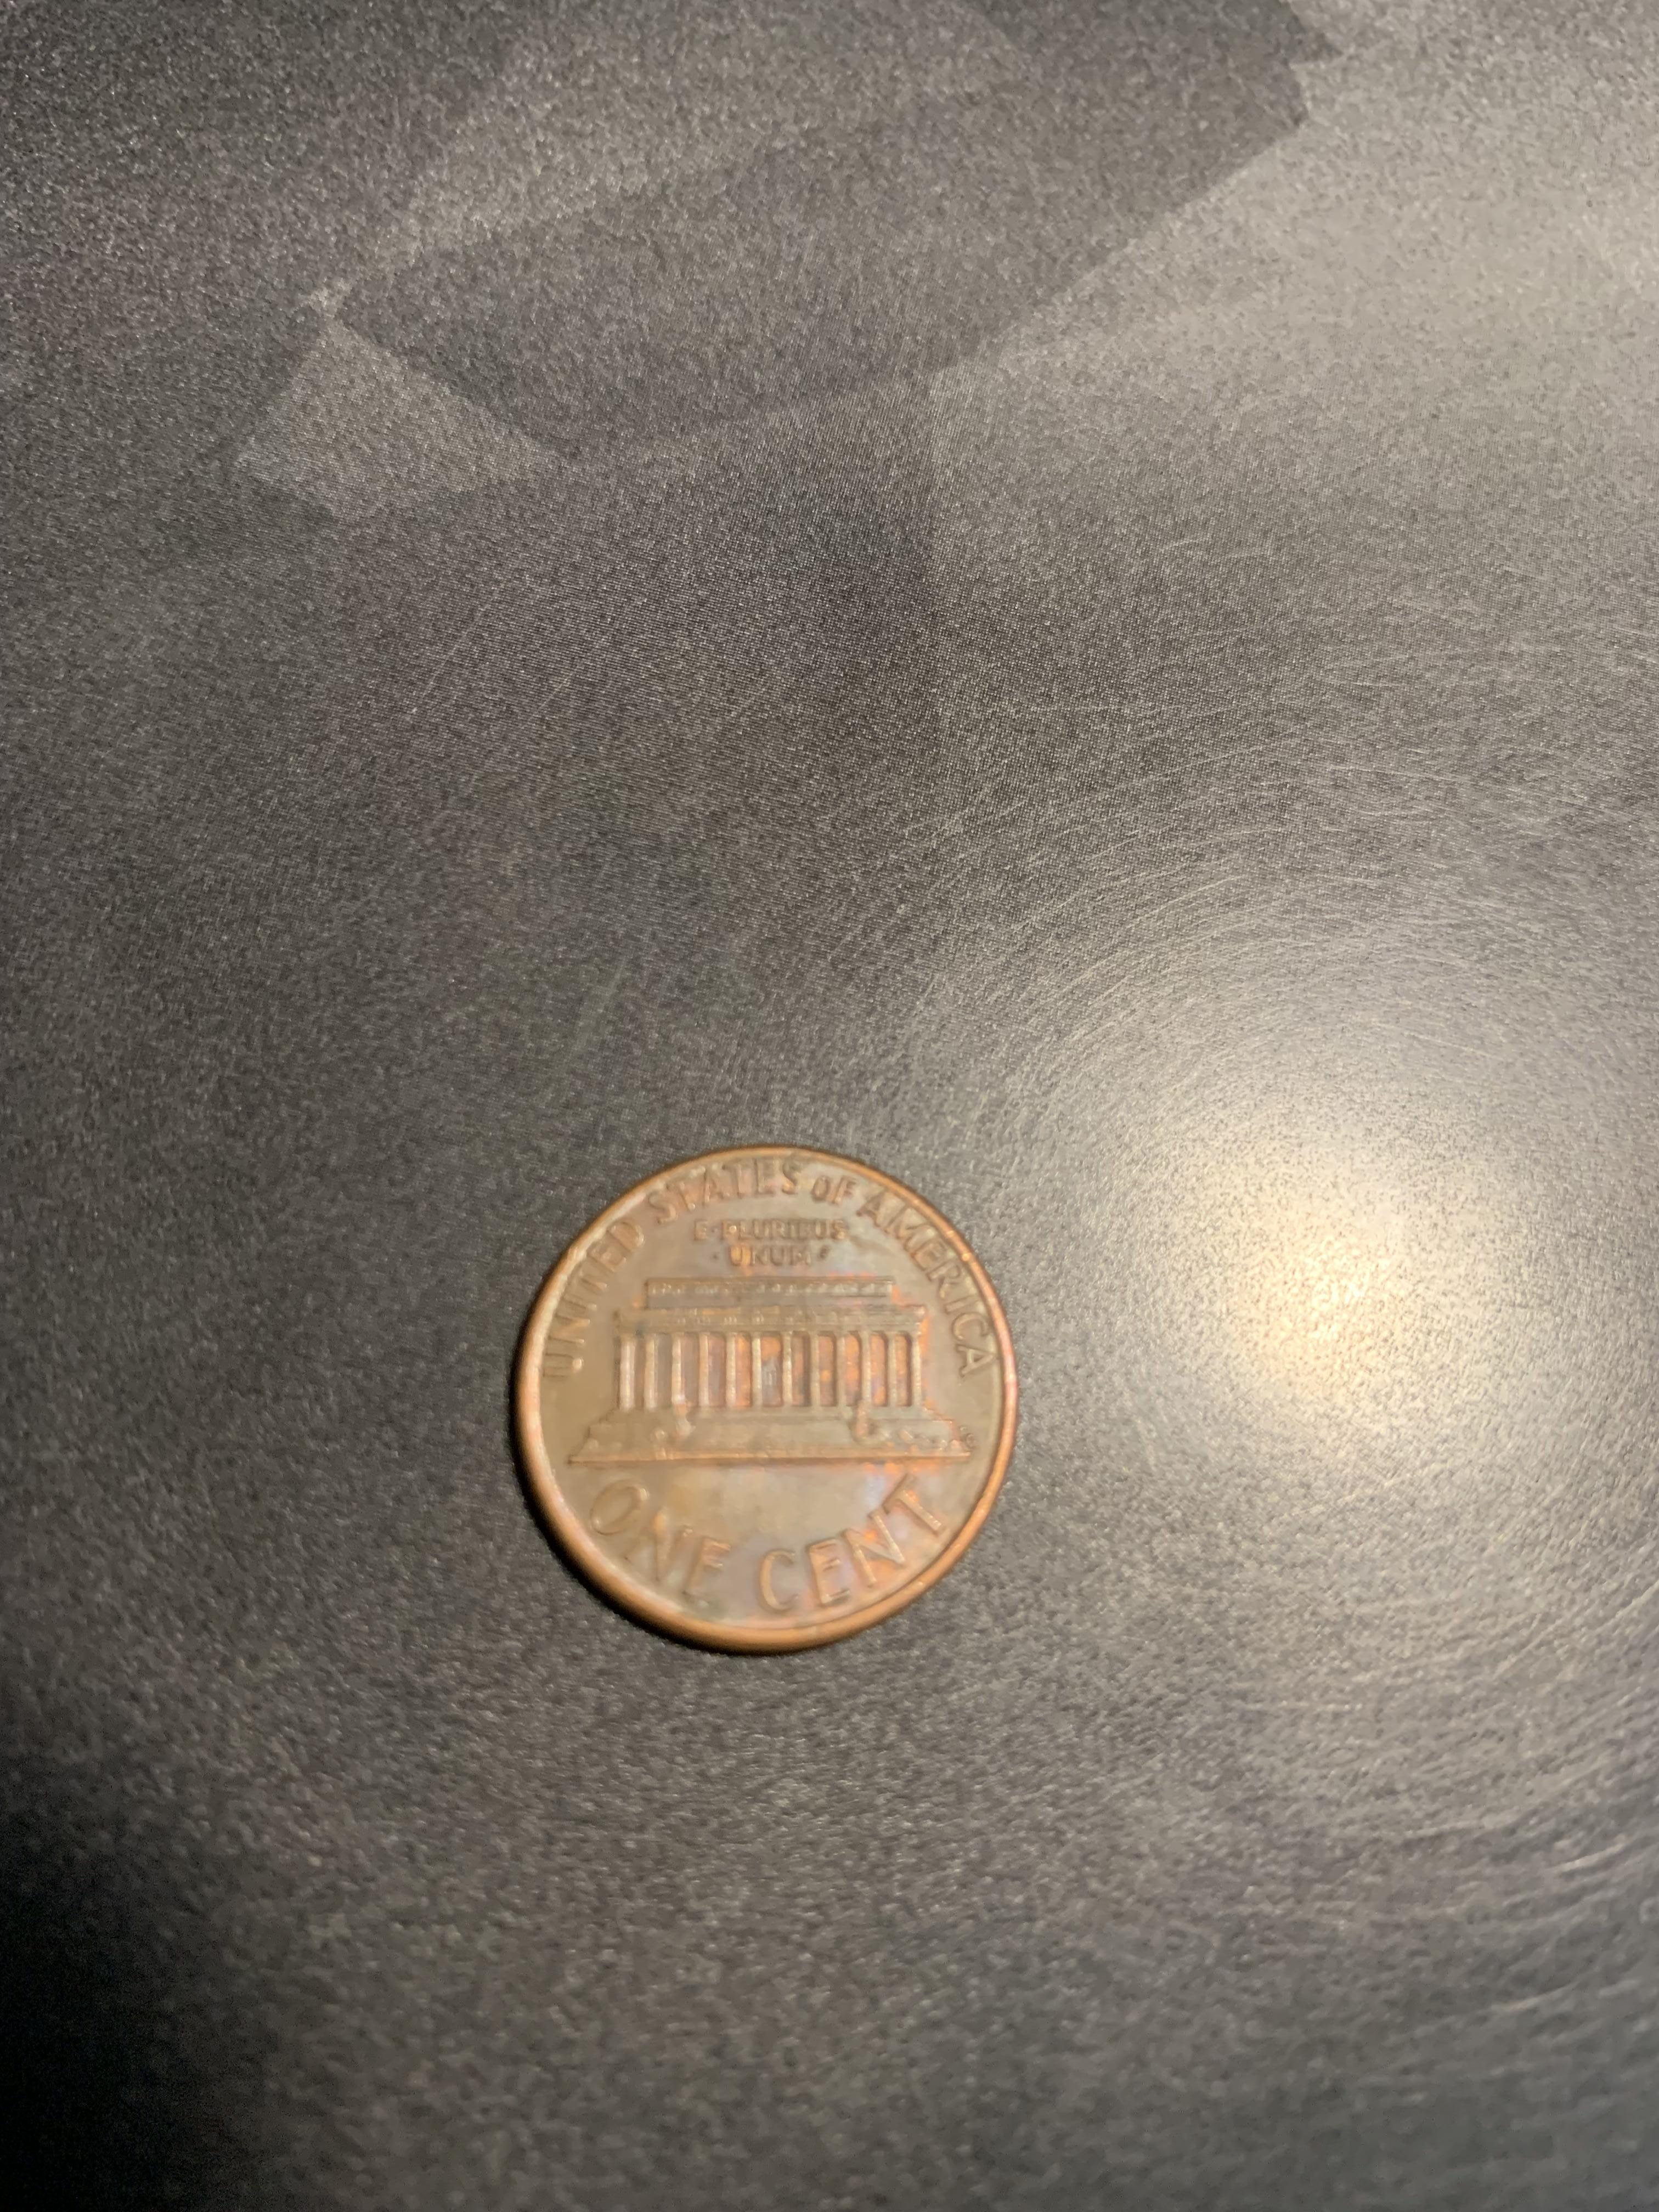Penny: (495, 1113, 1032, 1656)
